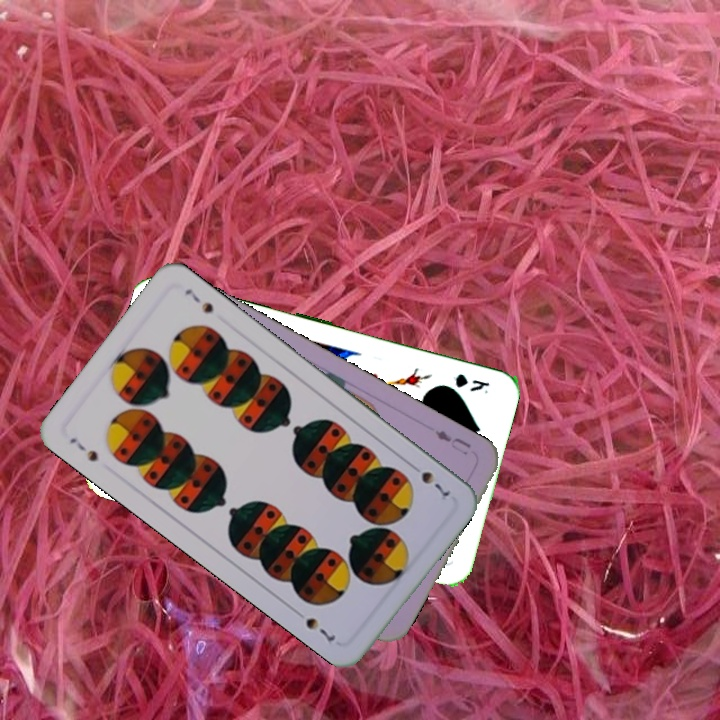EU: (430, 425, 474, 458)
GK: (451, 370, 493, 397)
S7: (405, 459, 453, 499), (65, 433, 101, 465)
